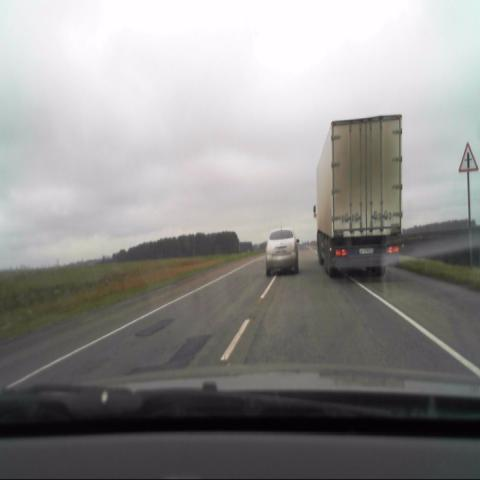2_3: (458, 140, 478, 172)
